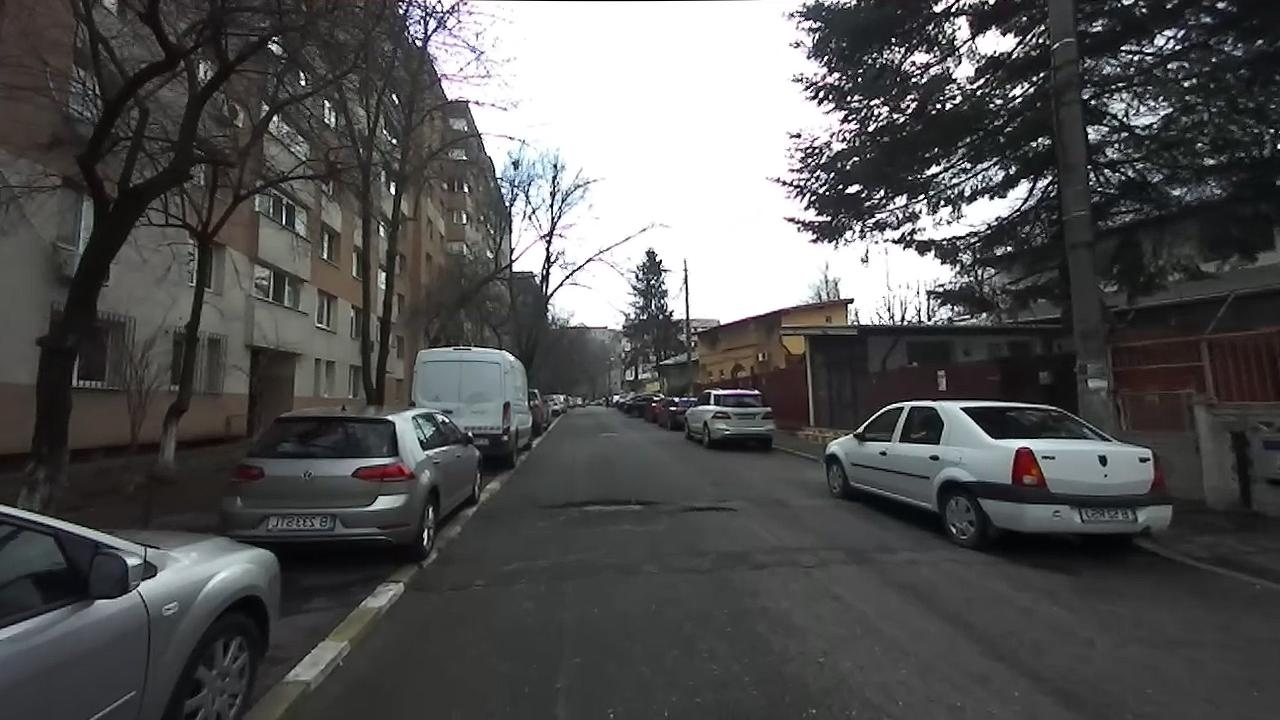pothole: (543, 495, 663, 518), (675, 504, 739, 516)
